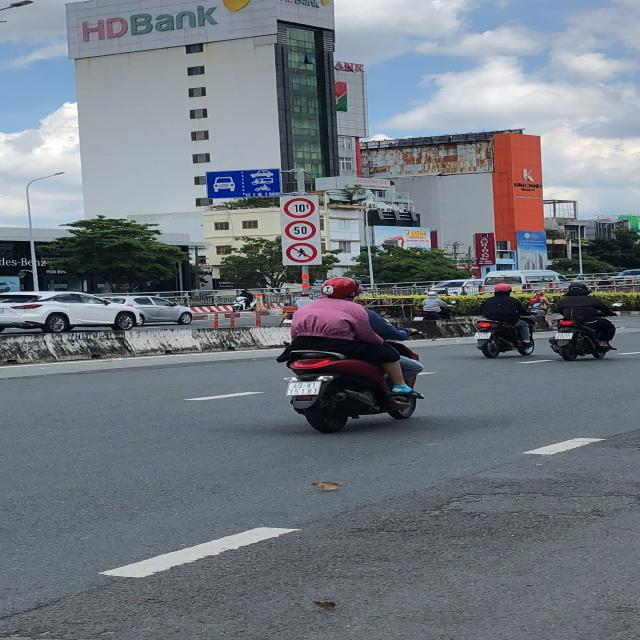Bien bao cam nguoi di bo: (283, 242, 320, 262)
Bien bao toc do toi da cho phep: (284, 220, 317, 242)
